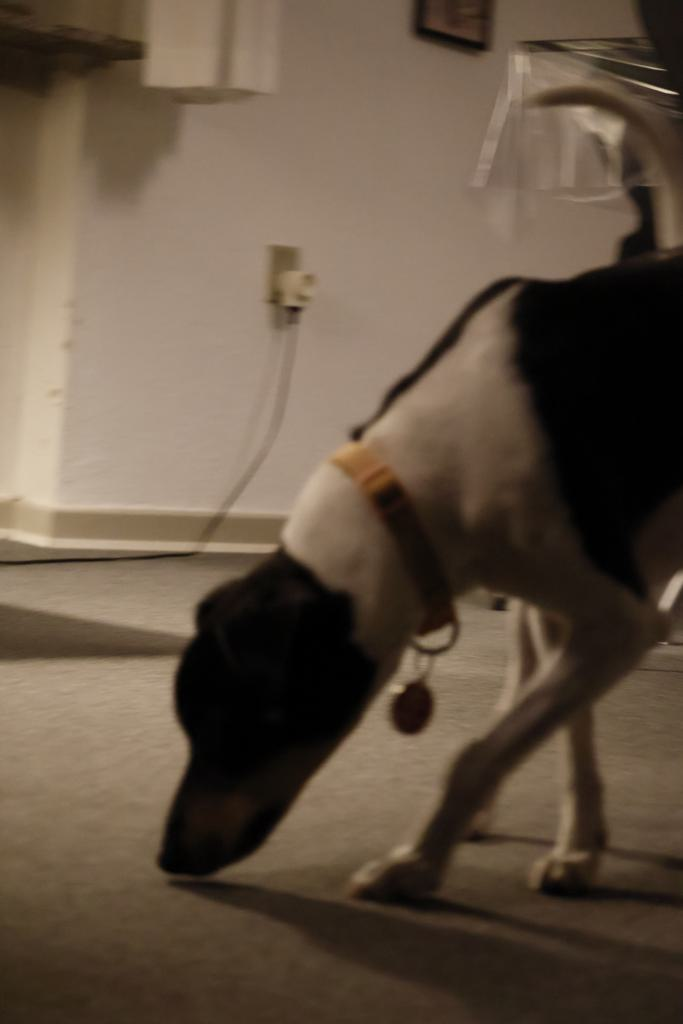Dog: (137, 75, 683, 914)
